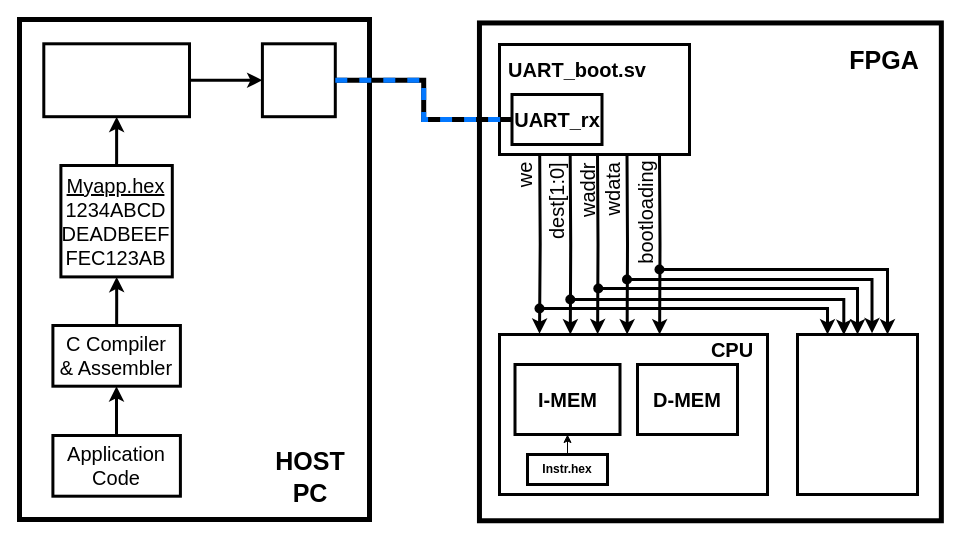
The diagram is 961 pixels wide and 541 high, and some of its shapes have lost their labels. Each missing label, with the centre of its shape:
COM Port: (298,80)
Image Buffer: (857,414)
UART_Boot.py: (116,80)
